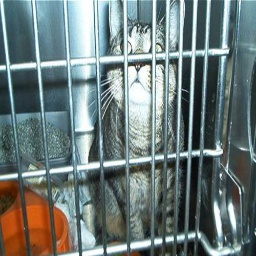cat: (91, 0, 183, 247)
